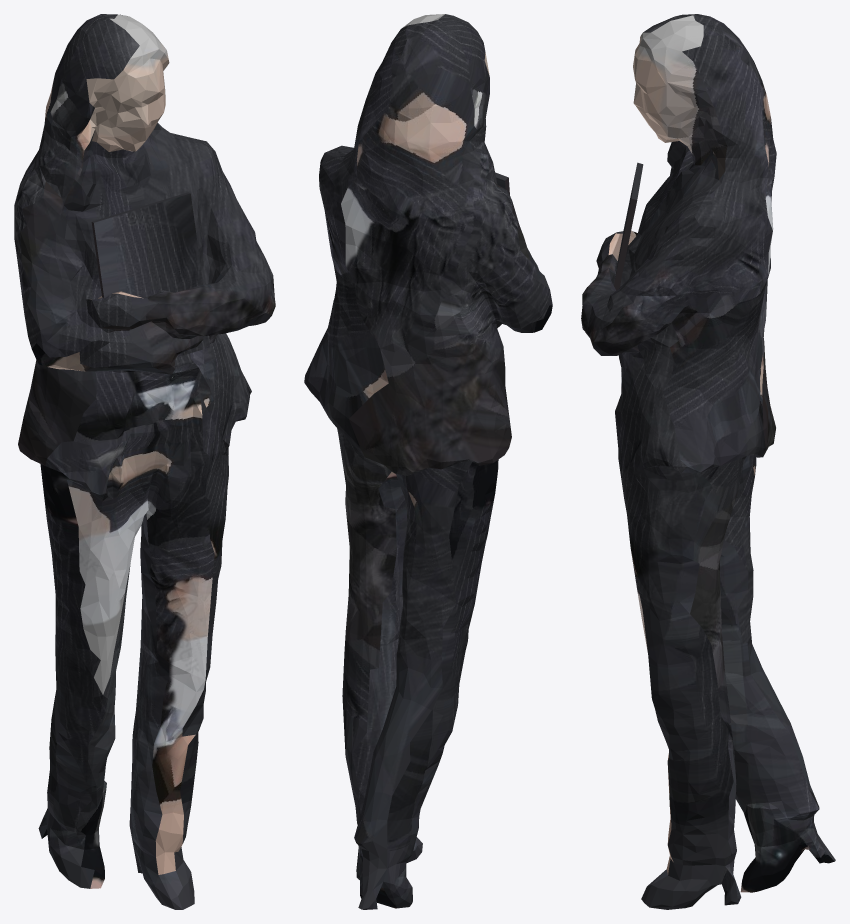
Rendered from girl_9.glb.
The picture shows the model from 3 angles, left to right: view 1: azimuth 30°, elevation 25°; view 2: azimuth 150°, elevation 25°; view 3: azimuth 270°, elevation 25°; orthographic projection. The views are drawn at different scales.
Parts seen in each view (by area): view 1: girl_9; view 2: girl_9; view 3: girl_9.
Boxes of the visible parts, <box> form: girl_9: <box>14,14,275,909</box>; girl_9: <box>304,14,552,909</box>; girl_9: <box>581,14,835,909</box>.
Size of the model in its own units: 0.4284 by 1.6 by 0.4238.
1 material, 1 textured.
